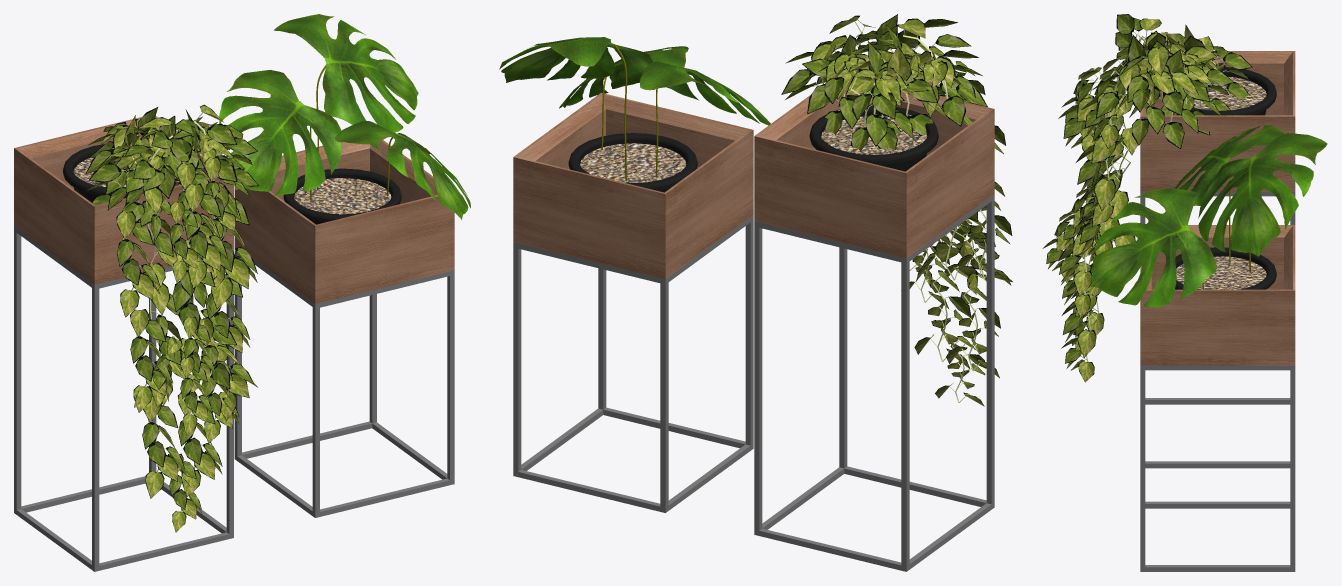
The model's file is SUPORTE+BOTÂNICO+OÁSIS (SU 2016).glb.
The picture shows the model from 3 angles, left to right: view 1: azimuth 30°, elevation 25°; view 2: azimuth 150°, elevation 25°; view 3: azimuth 270°, elevation 25°; orthographic projection. The views are drawn at different scales.
Visible parts, largest first — view 1: object 540, Monstera_Leaf (×3), object 525, object 552, object 548, object 533, object 531, object 532, object 546, object 545, object 535, object 530 (+4 smaller); view 2: object 540, object 525, Monstera_Leaf (×3), object 552, object 548, object 533, object 535, object 532, object 528, object 531, object 547, object 543 (+6 smaller); view 3: Monstera_Leaf (×3), object 540, object 525, object 552, object 535, object 548, object 533, leaf1a (×5), leaf2a (×4), object 543, object 545, object 544 (+1 smaller).
Part boxes in pixels (x1,y1,x2,y2): object 540: (234,140,454,303); Monstera_Leaf (×3): (219,14,470,219); object 525: (14,116,233,284); object 552: (283,168,401,224); object 548: (234,421,454,517); object 533: (14,476,233,571); object 531: (92,288,99,566); object 532: (14,231,21,509); object 546: (312,307,319,513); object 545: (447,275,454,480); object 535: (63,144,177,202); object 530: (226,294,233,533); object 540: (513,92,753,279); object 525: (754,76,994,258); Monstera_Leaf (×3): (499,37,770,125); object 552: (568,133,697,192); object 548: (513,407,753,512); object 533: (754,466,994,571); object 535: (809,105,938,171); object 532: (901,261,909,566); object 528: (754,226,762,530); object 531: (986,199,994,504); object 547: (660,282,668,507); object 543: (513,247,521,471); Monstera_Leaf (×3): (1091,124,1327,307); object 540: (1140,225,1295,365); object 525: (1140,51,1295,191); object 552: (1175,247,1276,289); object 535: (1163,67,1276,115); object 548: (1140,501,1295,571); object 533: (1145,398,1290,468); leaf1a (×5): (1078,46,1174,357); leaf2a (×4): (1096,91,1184,148); object 543: (1290,370,1295,567); object 545: (1140,370,1145,567); object 544: (1140,365,1295,370).
Bounding box in the file's own units: 0.8297 × 0.8838 × 0.5523.
9 materials, 5 textured.
